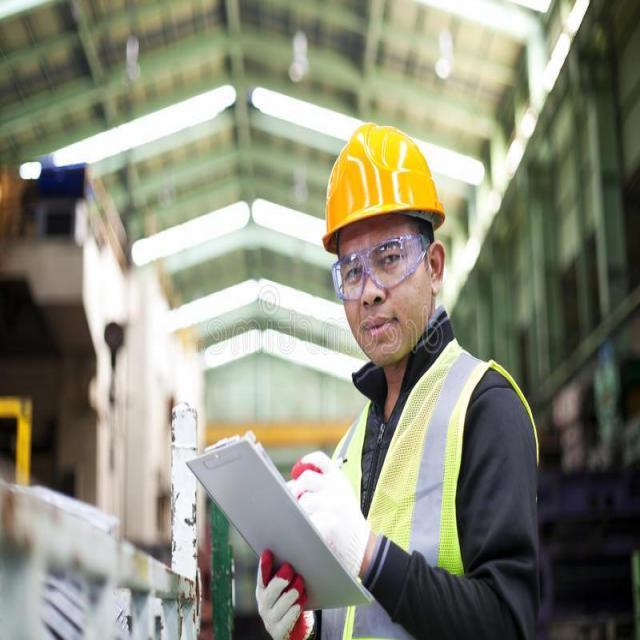reflective_jacket: (318, 339, 537, 636)
safety_helmet: (316, 117, 449, 252)
